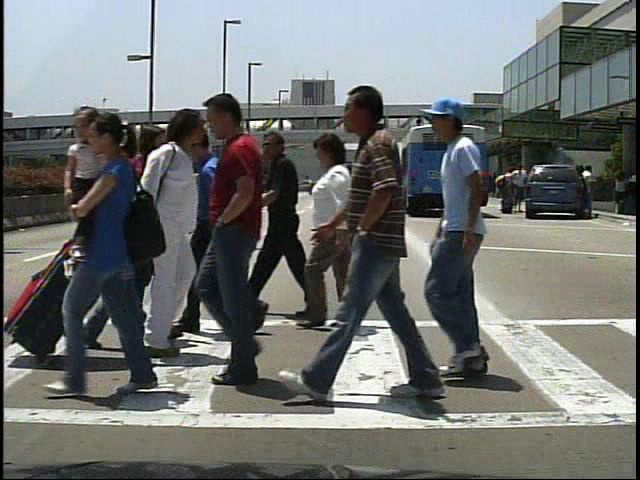person: (322, 84, 459, 424), (103, 108, 215, 366), (197, 92, 292, 387), (430, 103, 517, 381), (163, 123, 257, 345), (289, 135, 374, 333), (251, 123, 324, 323), (118, 117, 174, 361), (104, 192, 146, 329), (497, 166, 517, 219), (582, 166, 602, 218), (513, 165, 529, 215)
